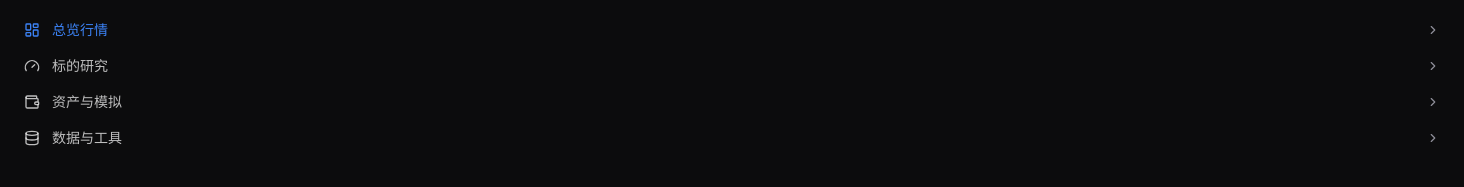
Test: GroupedNavigation › opens and closes the selected group in expanded mode
The width and height of the screenshot is (1464, 187).
Click the button with aria-label "总览行情": {"x": 80, "y": 30} left=12, top=12, right=1452, bottom=48
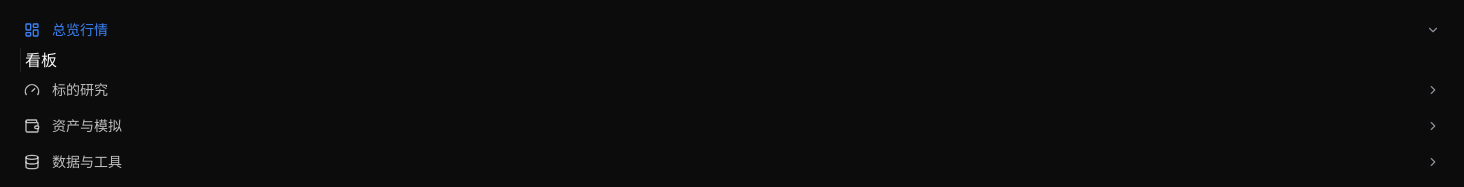
Now the button with aria-label "总览行情" is expanded
Now the link to "/" reads "看板", box left=25, top=50, right=57, bottom=70
Click the button with aria-label "总览行情": {"x": 80, "y": 30} left=12, top=12, right=1452, bottom=48
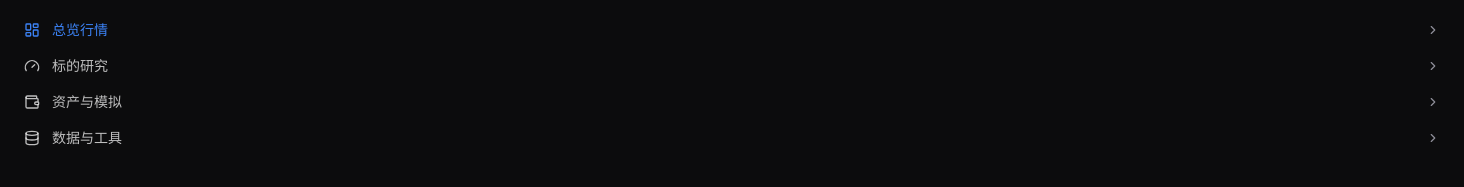
Now the button with aria-label "总览行情" is collapsed, box left=12, top=12, right=1452, bottom=48
Now the link to "/" is gone
